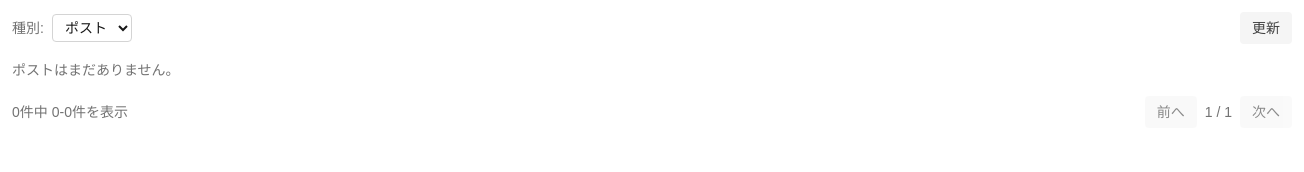
Test: PostComparisonTable › 項目が無ければ、種別に応じてポスト/ページはまだありませんと表示する
expect the text "ポストはまだありません。" is shown: met, box x1=12 y1=62 x2=180 y2=78
Select "ページ" in the dropdown at (92, 28), box x1=52 y1=14 x2=132 y2=42
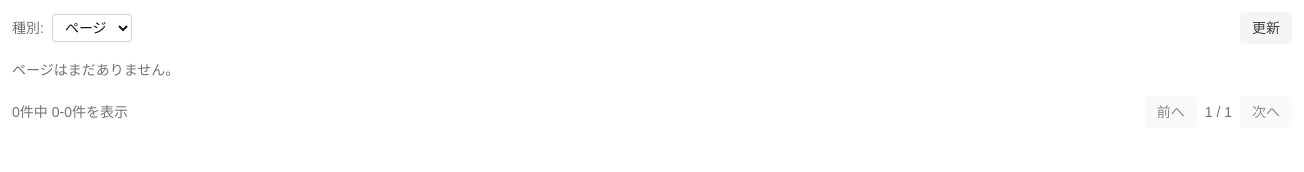
expect the text "0件中 0-0件を表示" is shown: met, box x1=12 y1=102 x2=128 y2=122
expect the text "ページはまだありません。" is shown: met, box x1=12 y1=62 x2=179 y2=78
